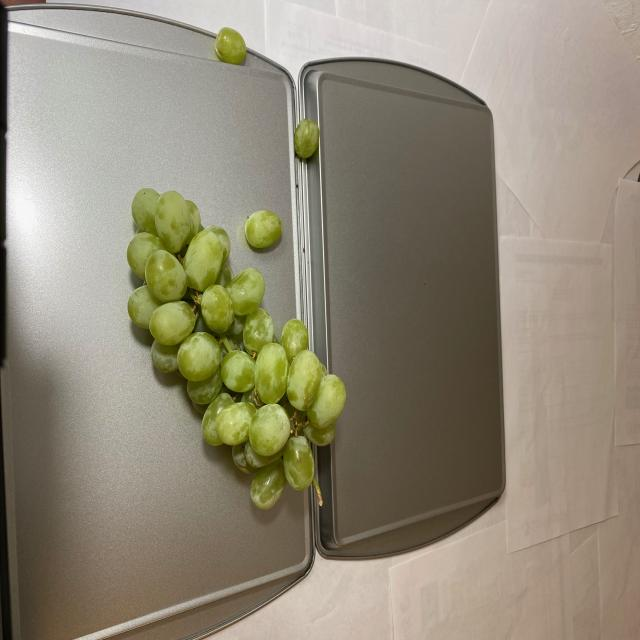grapes: (123, 119, 343, 529), (202, 24, 253, 78)
